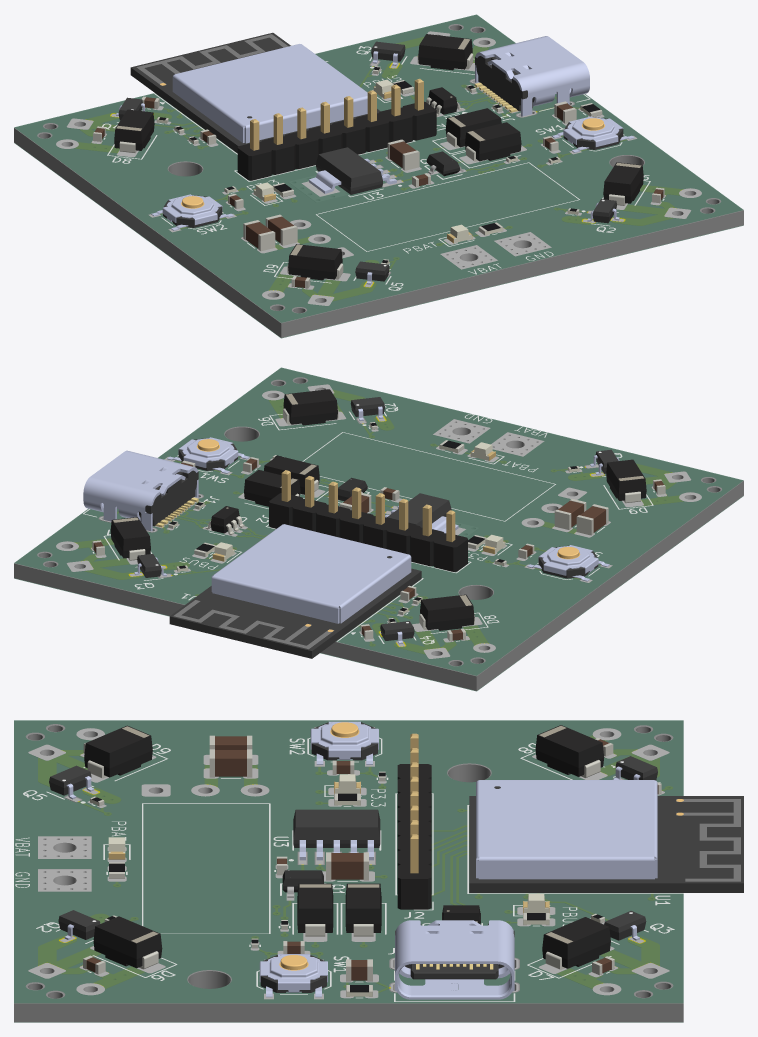
The model's file is Tiny_optimized.glb.
The picture shows the model from 3 angles, top to bottom: view 1: azimuth 30°, elevation 25°; view 2: azimuth 150°, elevation 25°; view 3: azimuth 270°, elevation 25°; orthographic projection. The views are drawn at different scales.
Parts seen in each view (by area): view 1: =>[0:1:1:21], =>[0:1:1:22], U1, J2, =>[0:1:1:18], NAUO1, =>[0:1:1:20], =>[0:1:1:17], U3, D2, D7, SW1 (+13 smaller); view 2: =>[0:1:1:21], =>[0:1:1:22], U1, J2, NAUO1, =>[0:1:1:18], =>[0:1:1:17], =>[0:1:1:20], D6, D8, SW2, SW1 (+11 smaller); view 3: =>[0:1:1:21], =>[0:1:1:22], U1, =>[0:1:1:18], NAUO1, J2, =>[0:1:1:20], =>[0:1:1:17], U3, D7, D6, D8 (+15 smaller).
Part boxes in pixels (left/top/right/bottom): =>[0:1:1:21]: left=14, top=14, right=743, bottom=338; =>[0:1:1:22]: left=14, top=15, right=743, bottom=337; U1: left=130, top=32, right=380, bottom=152; J2: left=237, top=78, right=436, bottom=180; =>[0:1:1:18]: left=56, top=31, right=701, bottom=305; NAUO1: left=474, top=36, right=589, bottom=116; =>[0:1:1:20]: left=102, top=46, right=664, bottom=290; =>[0:1:1:17]: left=77, top=37, right=682, bottom=300; U3: left=309, top=147, right=396, bottom=194; D2: left=465, top=122, right=521, bottom=161; D7: left=417, top=34, right=473, bottom=70; SW1: left=552, top=116, right=634, bottom=152; =>[0:1:1:21]: left=14, top=367, right=743, bottom=691; =>[0:1:1:22]: left=14, top=368, right=743, bottom=690; U1: left=169, top=524, right=421, bottom=658; J2: left=269, top=470, right=467, bottom=571; NAUO1: left=83, top=450, right=198, bottom=531; =>[0:1:1:18]: left=56, top=384, right=701, bottom=658; =>[0:1:1:17]: left=75, top=390, right=682, bottom=653; =>[0:1:1:20]: left=83, top=403, right=654, bottom=644; D6: left=283, top=389, right=338, bottom=425; D8: left=419, top=594, right=474, bottom=630; SW2: left=527, top=545, right=609, bottom=581; SW1: left=167, top=437, right=249, bottom=473; =>[0:1:1:21]: left=14, top=720, right=683, bottom=1022; =>[0:1:1:22]: left=14, top=721, right=683, bottom=1022; U1: left=469, top=780, right=743, bottom=892; =>[0:1:1:18]: left=28, top=727, right=669, bottom=999; NAUO1: left=395, top=920, right=514, bottom=999; J2: left=397, top=733, right=431, bottom=909; =>[0:1:1:20]: left=15, top=737, right=683, bottom=1001; =>[0:1:1:17]: left=38, top=736, right=672, bottom=991; U3: left=293, top=809, right=380, bottom=860; D7: left=542, top=917, right=610, bottom=969; D6: left=93, top=916, right=162, bottom=969; D8: left=535, top=725, right=604, bottom=777.
Bounding box in the file's own units: 0.05 × 0.0115 × 0.0545.
